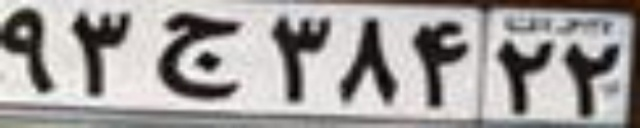2: (562, 42, 622, 116), (498, 41, 552, 115)
3: (67, 5, 139, 97), (270, 15, 331, 102)
4: (412, 21, 473, 108)
8: (339, 19, 395, 103)
9: (0, 5, 52, 91)
jim: (155, 13, 246, 96)
